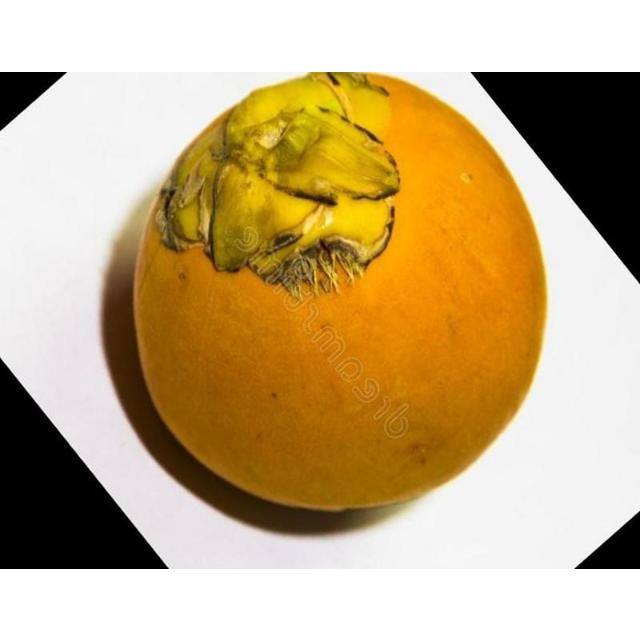good: (133, 71, 548, 515)
